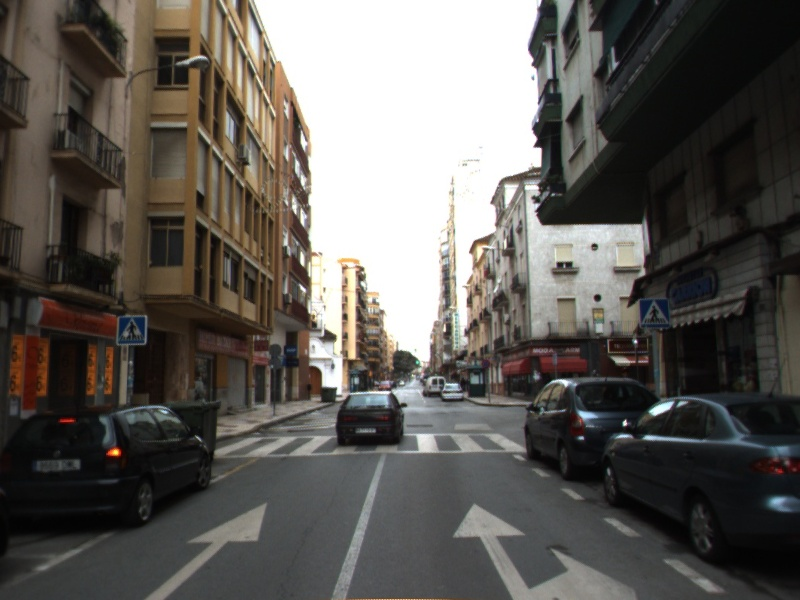STRAIGHT: (142, 501, 269, 600)
STRAIGHT_RIGHT: (451, 501, 638, 600)
